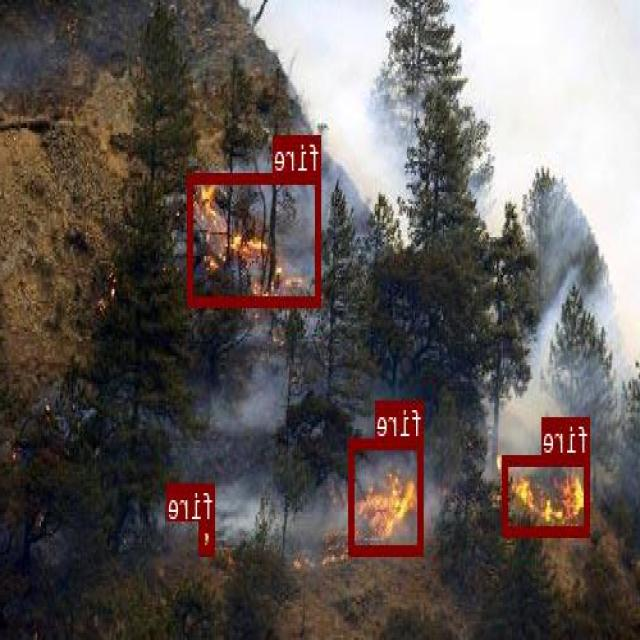fire: (188, 172, 322, 306), (350, 439, 424, 553), (503, 453, 591, 536), (200, 520, 216, 552)
